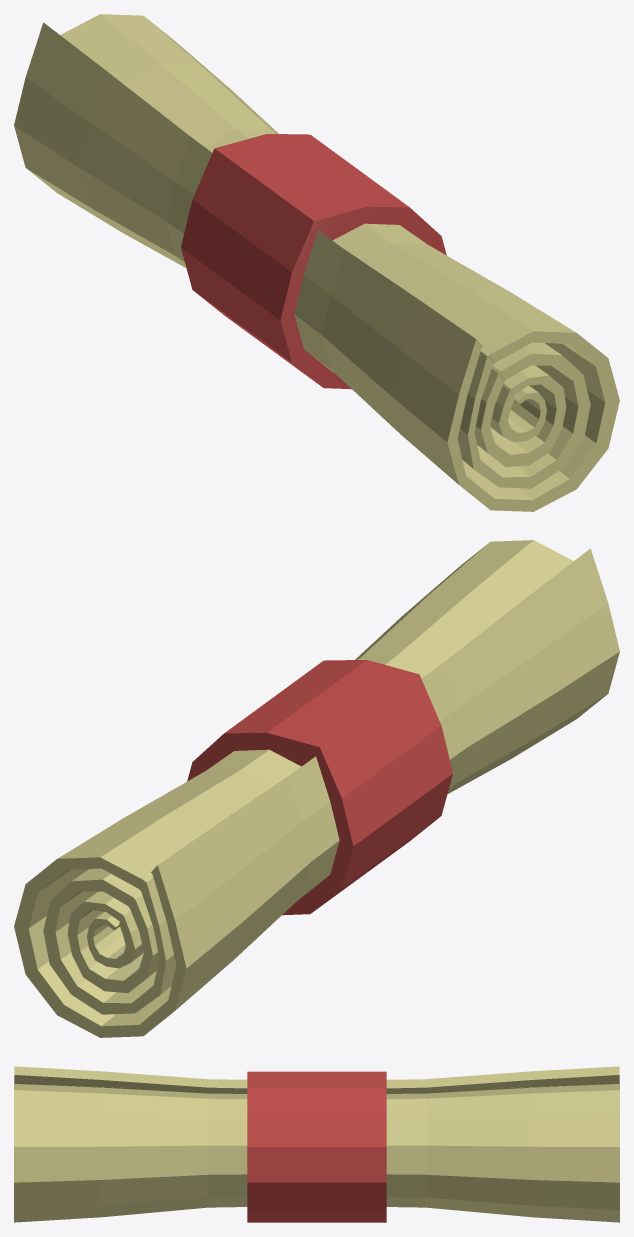
File: scroll.fbx
The picture shows the model from 3 angles, top to bottom: view 1: azimuth 30°, elevation 25°; view 2: azimuth 150°, elevation 25°; view 3: azimuth 270°, elevation 25°; orthographic projection. The views are drawn at different scales.
Visible parts, largest first — view 1: Cylinder; view 2: Cylinder; view 3: Cylinder.
Part boxes in pixels (bbox=[...]): Cylinder: bbox=[14, 14, 619, 511]; Cylinder: bbox=[14, 540, 619, 1037]; Cylinder: bbox=[14, 1066, 619, 1222].
Bounding box in the file's own units: 200 × 207 × 870.
Materials: 1 (1 with a texture image).
